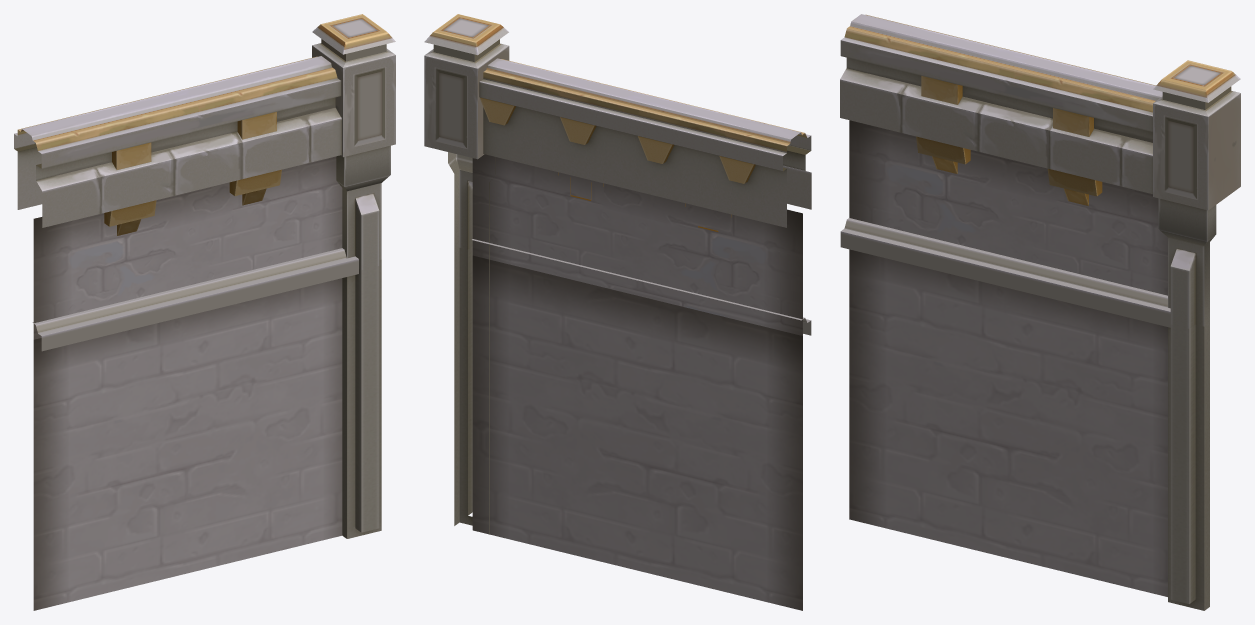
Rendered from zhucheng_huchengheqiang.FBX.
The picture shows the model from 3 angles, left to right: view 1: azimuth 30°, elevation 25°; view 2: azimuth 150°, elevation 25°; view 3: azimuth 330°, elevation 25°; orthographic projection. The views are drawn at different scales.
Parts seen in each view (by area): view 1: zhucheng_huchengheqiang; view 2: zhucheng_huchengheqiang; view 3: zhucheng_huchengheqiang.
Part boxes in pixels (x1,y1,x2,y2): zhucheng_huchengheqiang: (14, 14, 395, 610); zhucheng_huchengheqiang: (424, 14, 811, 610); zhucheng_huchengheqiang: (840, 14, 1240, 610).
Bounding box in the file's own units: 433 × 586 × 67.53.
